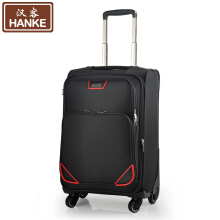luggage: (56, 7, 164, 214)
